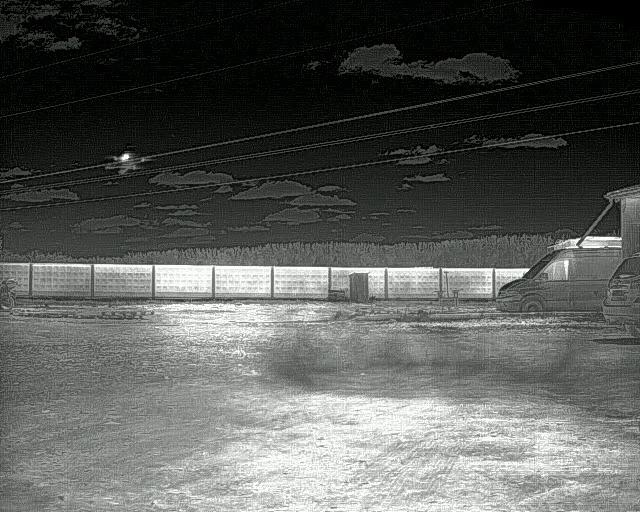drone-thermal: (101, 147, 153, 176)
